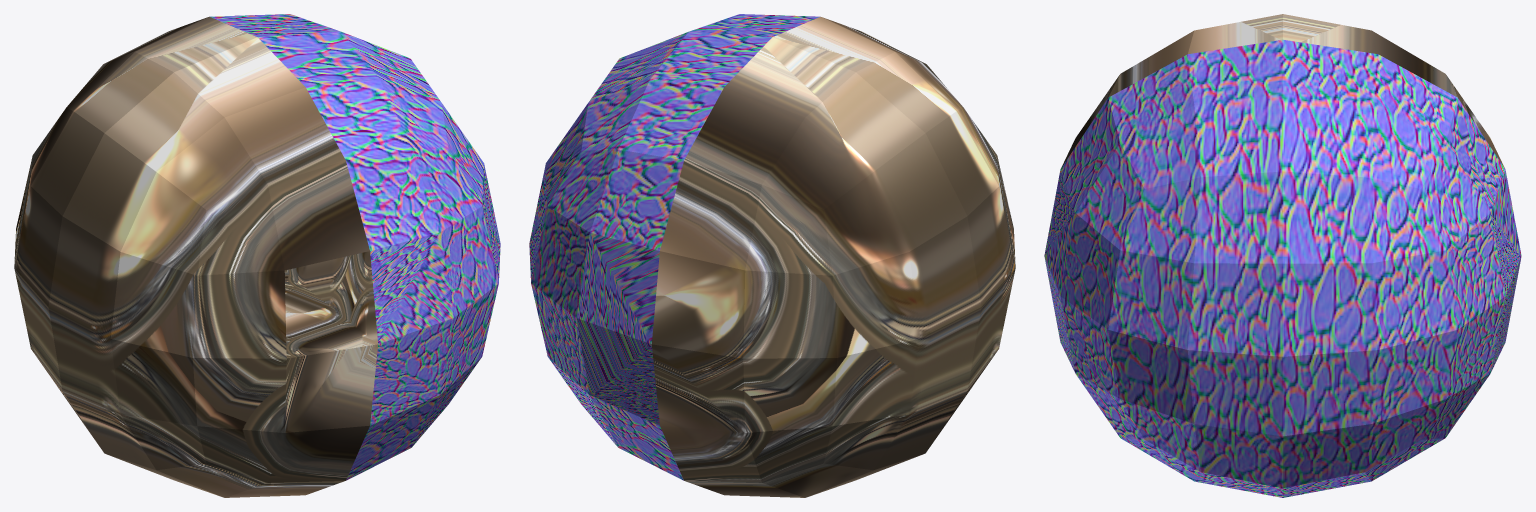
File: csphere3.fbx
The picture shows the model from 3 angles, left to right: view 1: azimuth 30°, elevation 25°; view 2: azimuth 150°, elevation 25°; view 3: azimuth 270°, elevation 25°; orthographic projection.
Parts seen in each view (by area): view 1: Cube; view 2: Cube; view 3: Cube.
Boxes of the visible parts, x1,y1,x2,y2 form: Cube: (14, 14, 500, 497); Cube: (529, 14, 1015, 497); Cube: (1044, 14, 1521, 497).
Bounding box in the file's own units: 1.76 × 1.76 × 1.76.
Materials: 2 (2 with a texture image).
